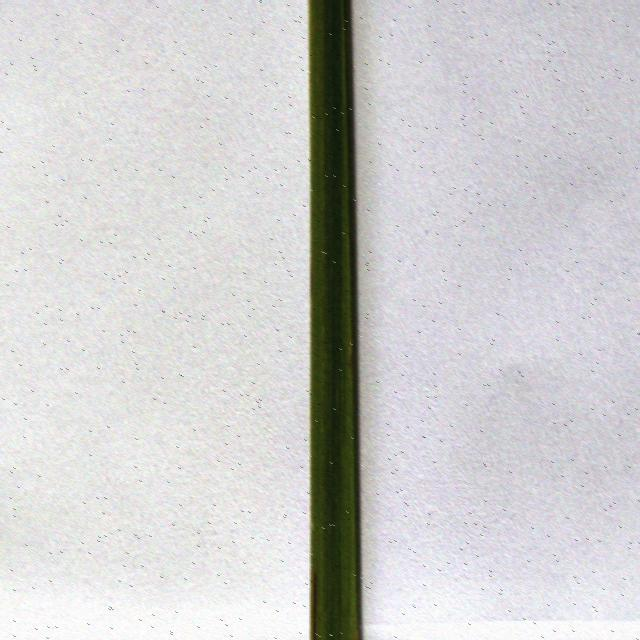NBS: (313, 568, 317, 640)
